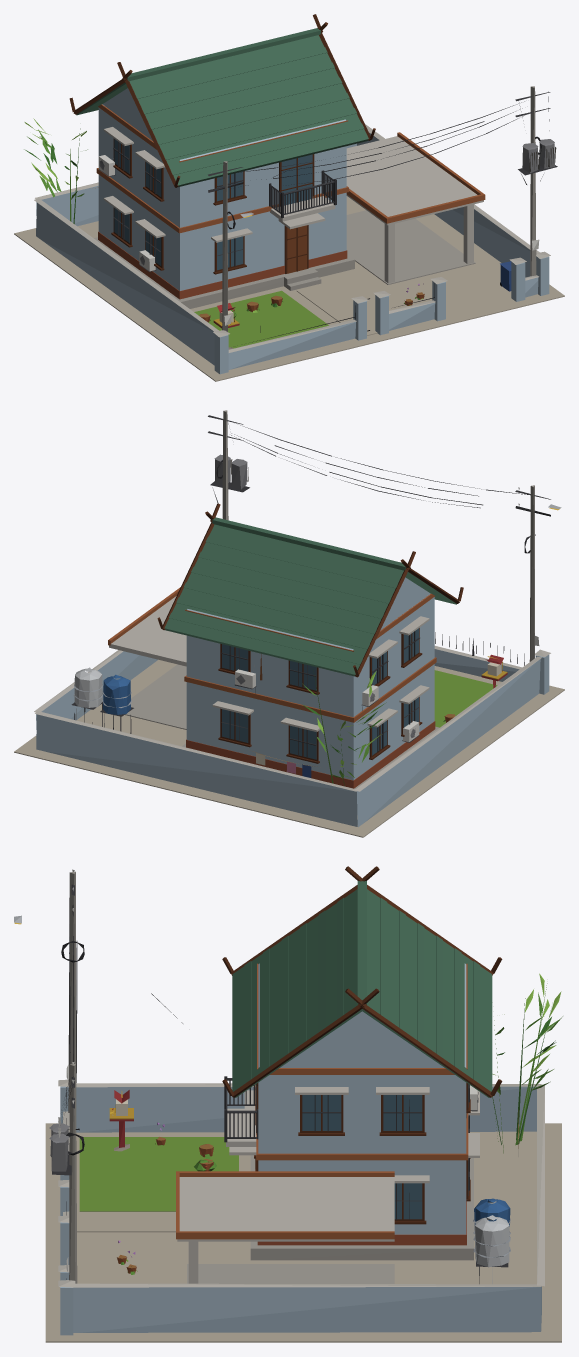
Rendered from home_2.glb.
3 views of the same model, one above another, from view 1: azimuth 30°, elevation 25°; view 2: azimuth 150°, elevation 25°; view 3: azimuth 270°, elevation 25° (orthographic). The views are drawn at different scales.
Parts seen in each view (by area): view 1: body, windows; view 2: body, windows; view 3: body, windows.
Part boxes in pixels (x1=…): body: x1=14, y1=14, x2=564, y2=381; windows: x1=114, y1=139, x2=312, y2=270; body: x1=14, y1=410, x2=564, y2=837; windows: x1=222, y1=507, x2=559, y2=759; body: x1=14, y1=866, x2=562, y2=1342; windows: x1=14, y1=922, x2=468, y2=1219.
Size of the model in its own units: 15.9 by 9.81 by 16.97.
